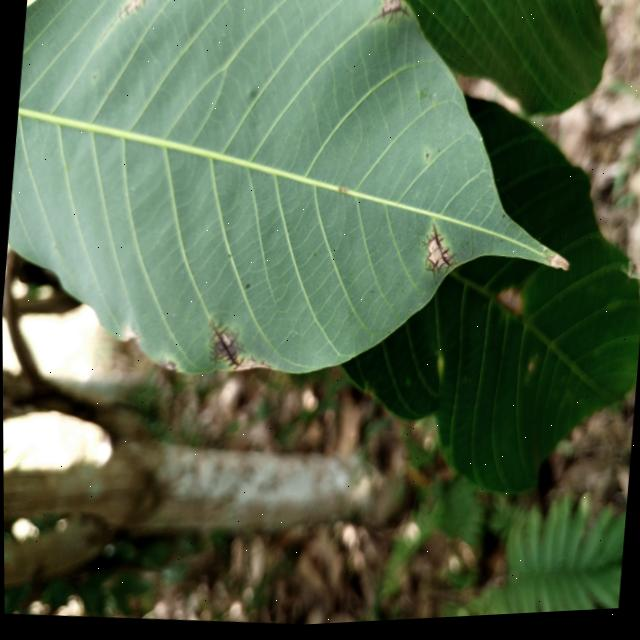Corynespora: (203, 319, 247, 372), (423, 225, 460, 287), (374, 3, 410, 28)
Leaf-Blight: (237, 359, 270, 374), (380, 0, 400, 14)
